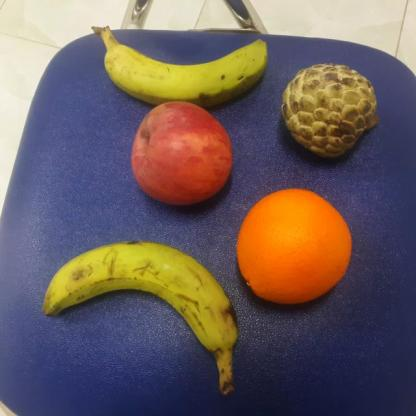annona: (276, 60, 378, 160)
apple: (128, 99, 235, 206)
banana: (42, 238, 242, 355), (100, 31, 277, 108)
orange: (234, 187, 354, 306)
